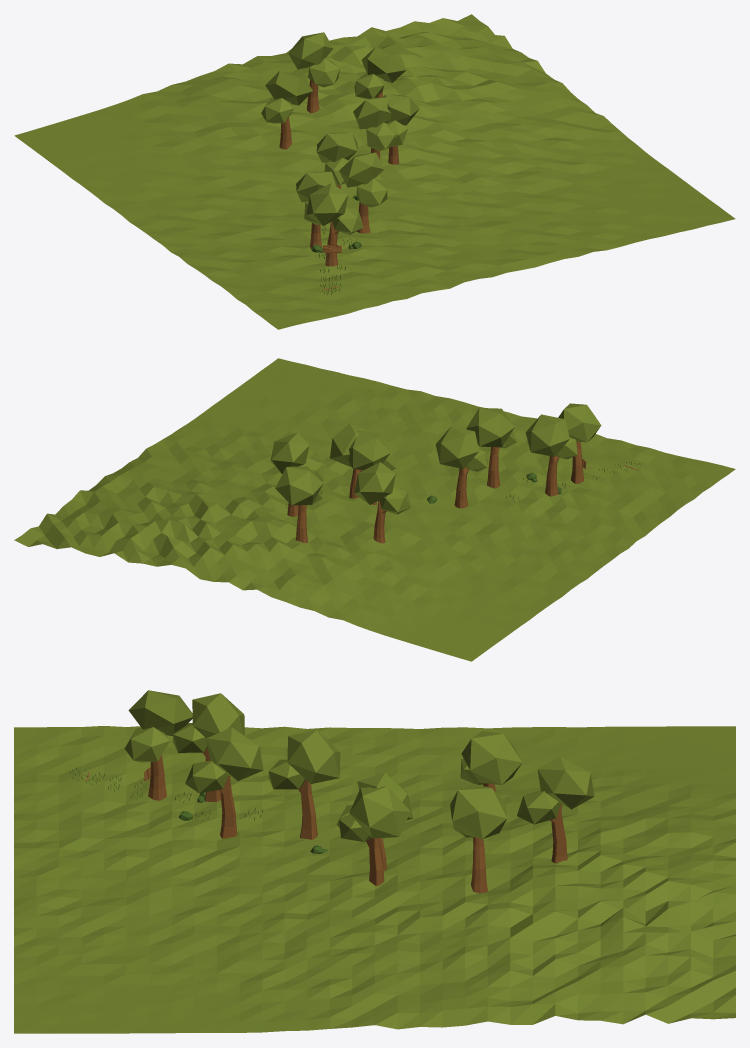
File: fondo_puntos.fbx
The picture shows the model from 3 angles, top to bottom: view 1: azimuth 30°, elevation 25°; view 2: azimuth 150°, elevation 25°; view 3: azimuth 270°, elevation 25°; orthographic projection. The views are drawn at different scales.
Visible parts, largest first — view 1: Fondo_puntos; view 2: Fondo_puntos; view 3: Fondo_puntos.
Part boxes in pixels (left/top/right/bottom): Fondo_puntos: left=14, top=14, right=735, bottom=329; Fondo_puntos: left=14, top=358, right=735, bottom=661; Fondo_puntos: left=14, top=690, right=735, bottom=1033.
Bounding box in the file's own units: 8449 × 1606 × 8449.
